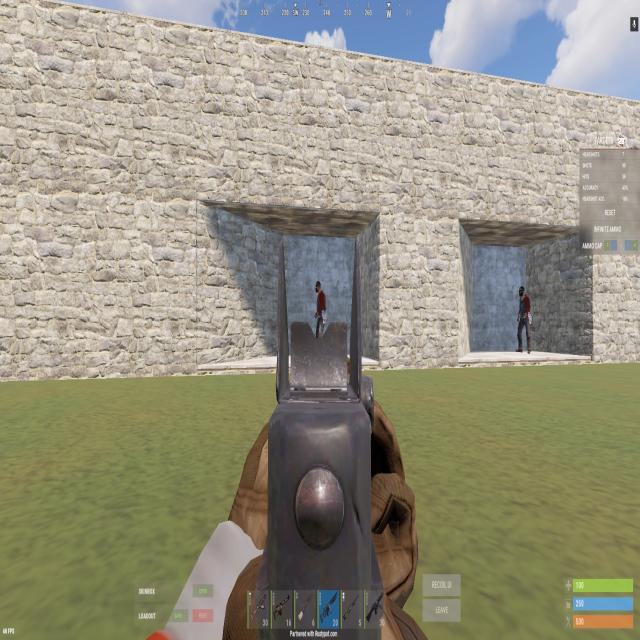Player: (516, 286, 532, 353), (314, 281, 326, 336)
